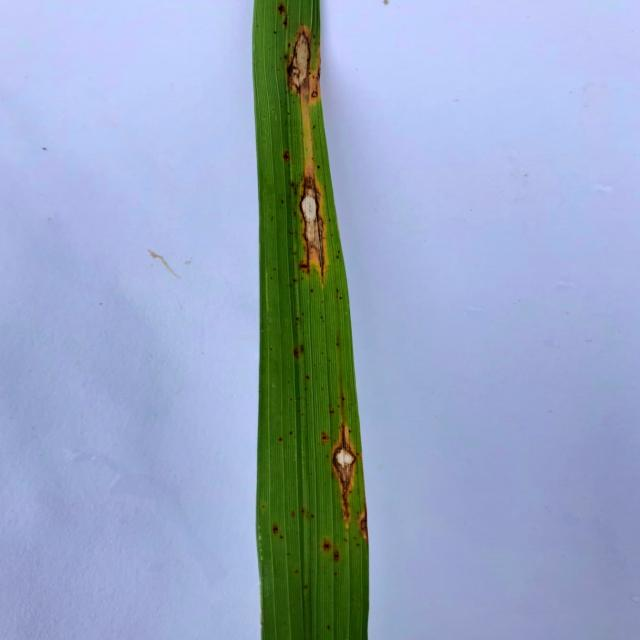leaf blast: (292, 170, 334, 286), (326, 419, 362, 523), (281, 18, 317, 98), (270, 1, 295, 30), (353, 508, 372, 545), (265, 520, 286, 545), (329, 543, 347, 567), (317, 536, 335, 554)
